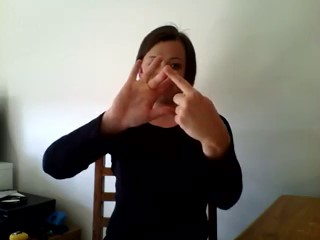I: (108, 51, 223, 141)
